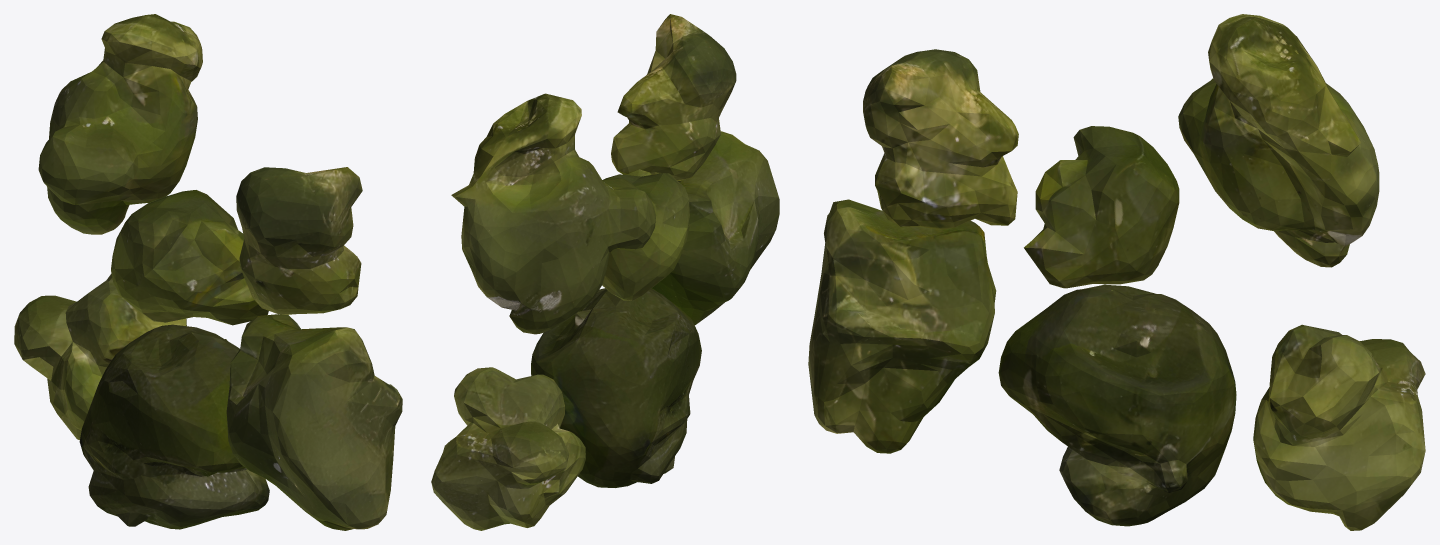
The model's file is olivine_001.glb.
The picture shows the model from 3 angles, left to right: view 1: azimuth 30°, elevation 25°; view 2: azimuth 150°, elevation 25°; view 3: azimuth 270°, elevation 25°; orthographic projection. The views are drawn at different scales.
Parts seen in each view (by area): view 1: tripo_node_10965168-5ea4-49bf-8335-ea2bda525ebd; view 2: tripo_node_10965168-5ea4-49bf-8335-ea2bda525ebd; view 3: tripo_node_10965168-5ea4-49bf-8335-ea2bda525ebd.
Part boxes in pixels (left/top/right/bottom): tripo_node_10965168-5ea4-49bf-8335-ea2bda525ebd: left=14, top=14, right=402, bottom=530; tripo_node_10965168-5ea4-49bf-8335-ea2bda525ebd: left=431, top=14, right=779, bottom=530; tripo_node_10965168-5ea4-49bf-8335-ea2bda525ebd: left=808, top=14, right=1425, bottom=530.
Size of the model in its own units: 0.3401 by 0.8411 by 0.949.
Materials: 1 (1 with a texture image).
